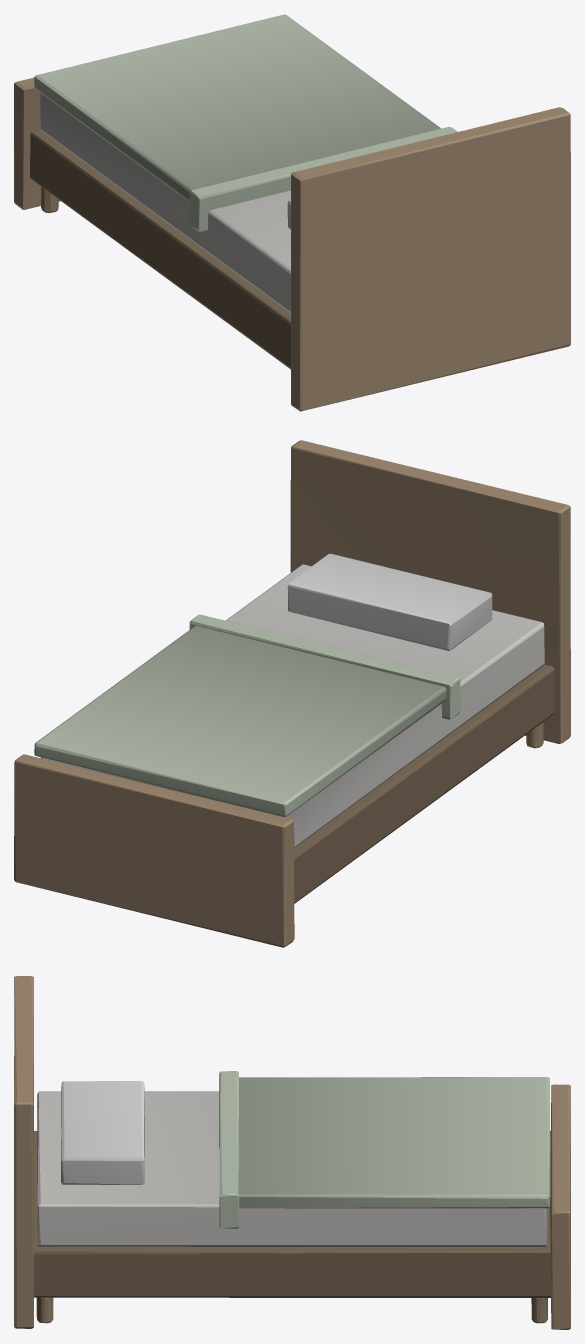
The model's file is furn_bed__sage_low.glb.
3 renders of one model, top to bottom at view 1: azimuth 30°, elevation 25°; view 2: azimuth 150°, elevation 25°; view 3: azimuth 270°, elevation 25°, orthographic. The views are drawn at different scales.
Size of the model in its own units: 1.16 by 0.9554 by 2.12.
